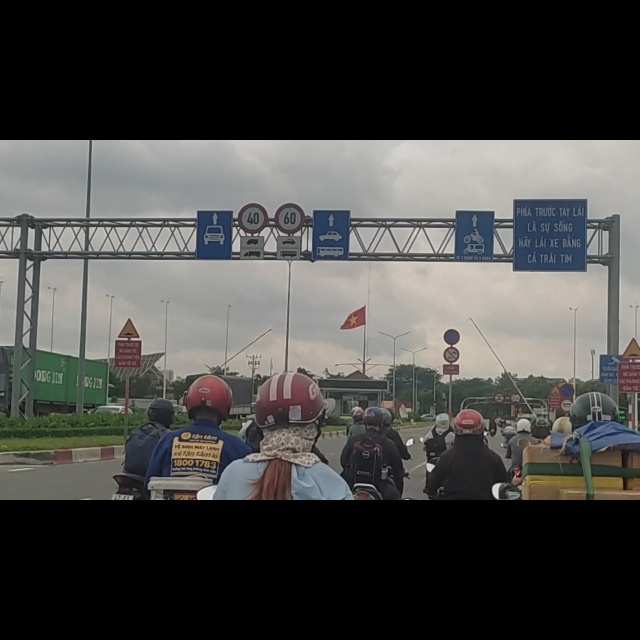bien_nguy_hiem: (238, 110, 269, 167), (275, 111, 305, 167), (599, 379, 620, 434), (116, 315, 141, 353), (621, 350, 639, 390), (443, 366, 461, 396), (443, 335, 461, 364), (560, 459, 573, 485), (561, 433, 575, 457), (509, 447, 521, 467), (550, 435, 560, 454), (494, 449, 505, 466)
